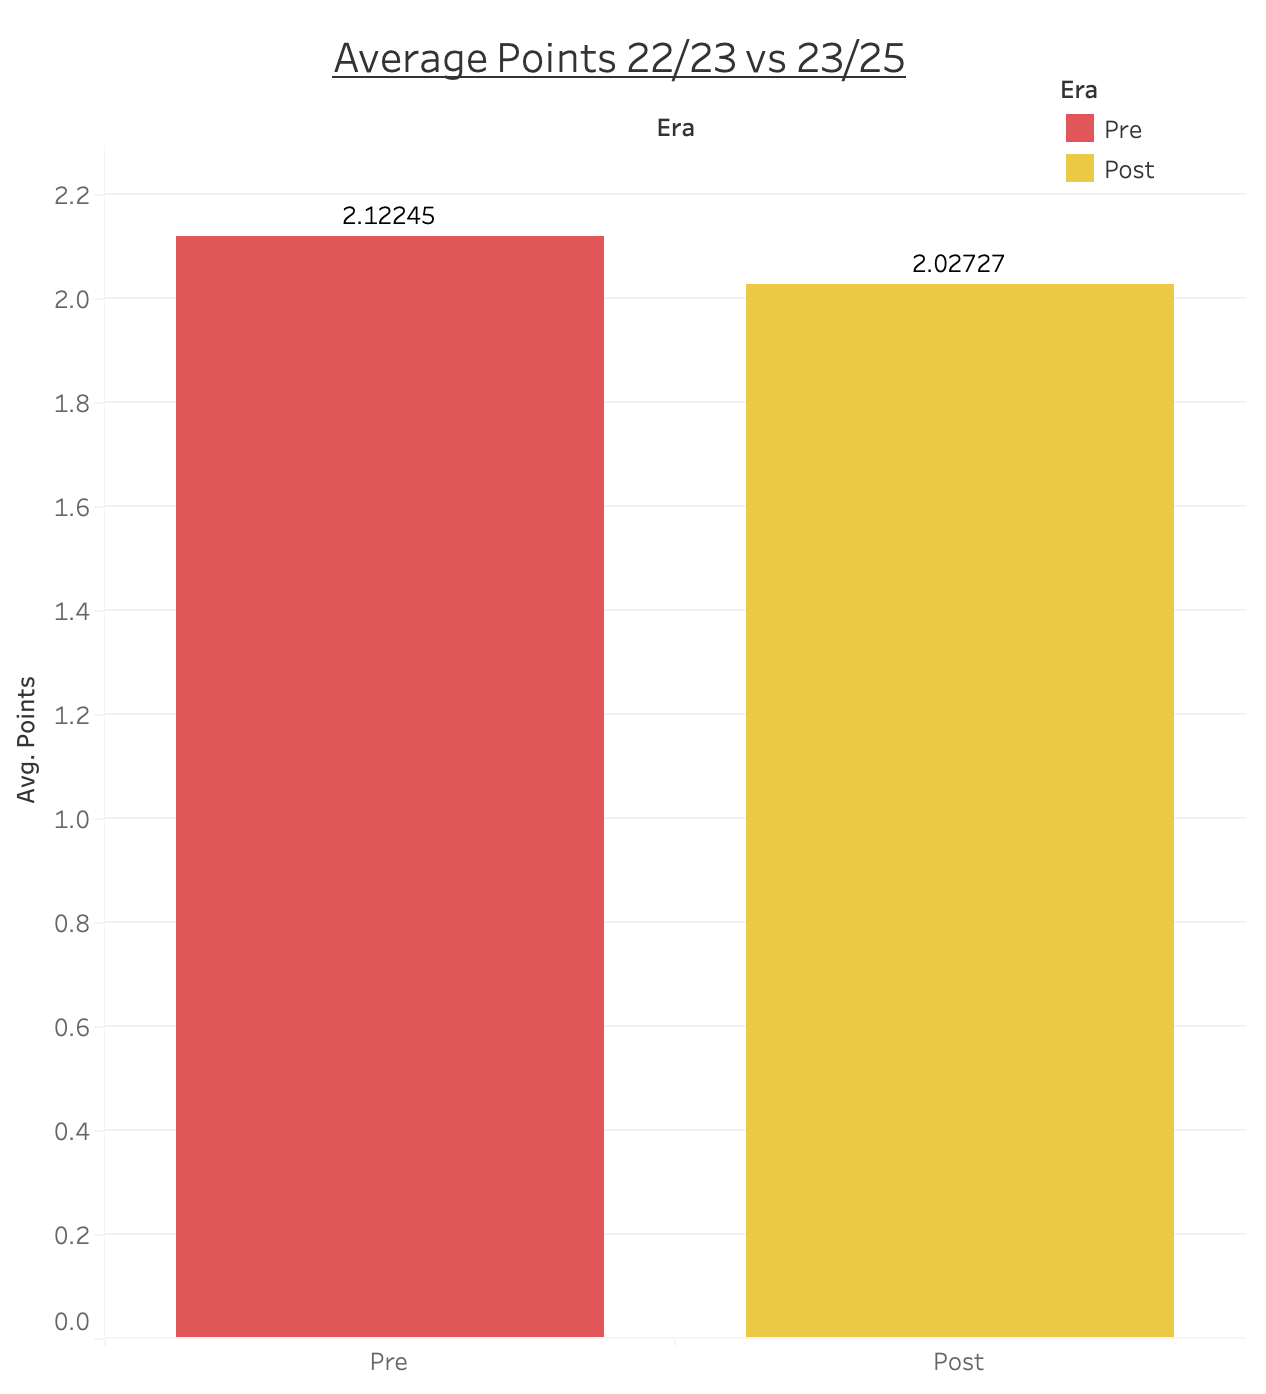

Layout of this report page (visuals, bound fields, positions):
{"tool":"tableau","page":{"name":"Dashboard 1","canvas":[650,860],"ordinal":0},"visuals":[{"type":"worksheet","title":"Average Points 22/23 vs 23/25","mark":"Automatic","rows":["Points"],"cols":["era"],"box":[8,9.8,634,840.5]}]}

Visuals, with their boxes on the page's 650x860 design canvas (x1, y1, x2, y2). These are canvas units, not pixel positions in the 1266x1394 screenshot, which may show the page scaled, cropped or inside an application window:
"Average Points 22/23 vs 23/25" worksheet: x1=8, y1=10, x2=642, y2=850
